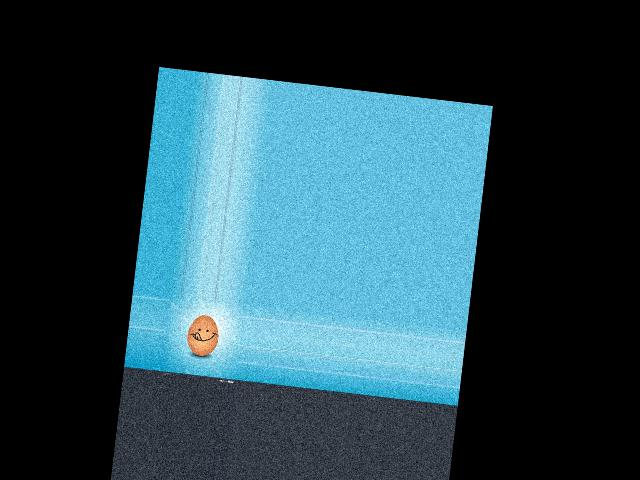egg: (184, 313, 220, 357)
